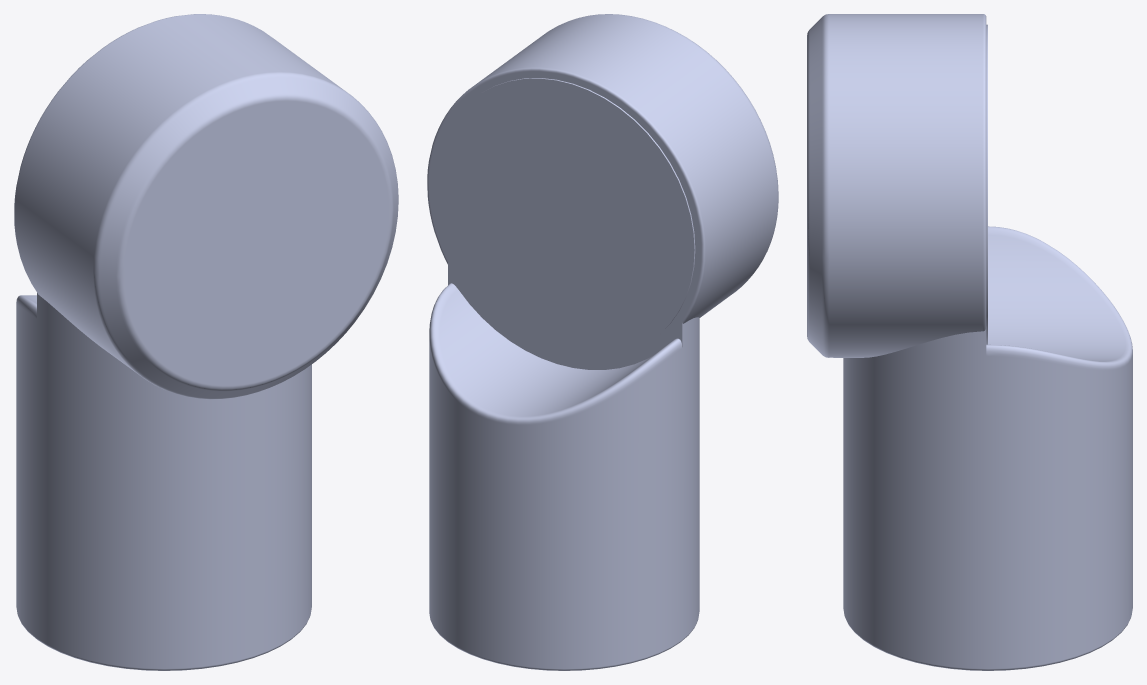
File: Link_Arm_4.obj
The picture shows the model from 3 angles, left to right: view 1: azimuth 30°, elevation 25°; view 2: azimuth 150°, elevation 25°; view 3: azimuth 270°, elevation 25°; orthographic projection. The views are drawn at different scales.
Visible parts, largest first — view 1: Body1; view 2: Body1; view 3: Body1.
Boxes of the visible parts, x1,y1,x2,y2 form: Body1: (14, 14, 398, 670); Body1: (427, 14, 778, 670); Body1: (807, 14, 1132, 670).
Bounding box in the file's own units: 9.5 × 17.75 × 9.
